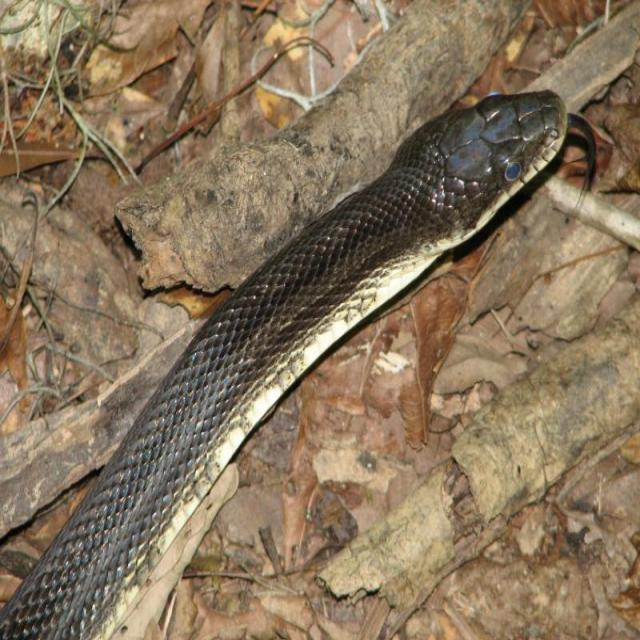Snake: (0, 83, 601, 640)
